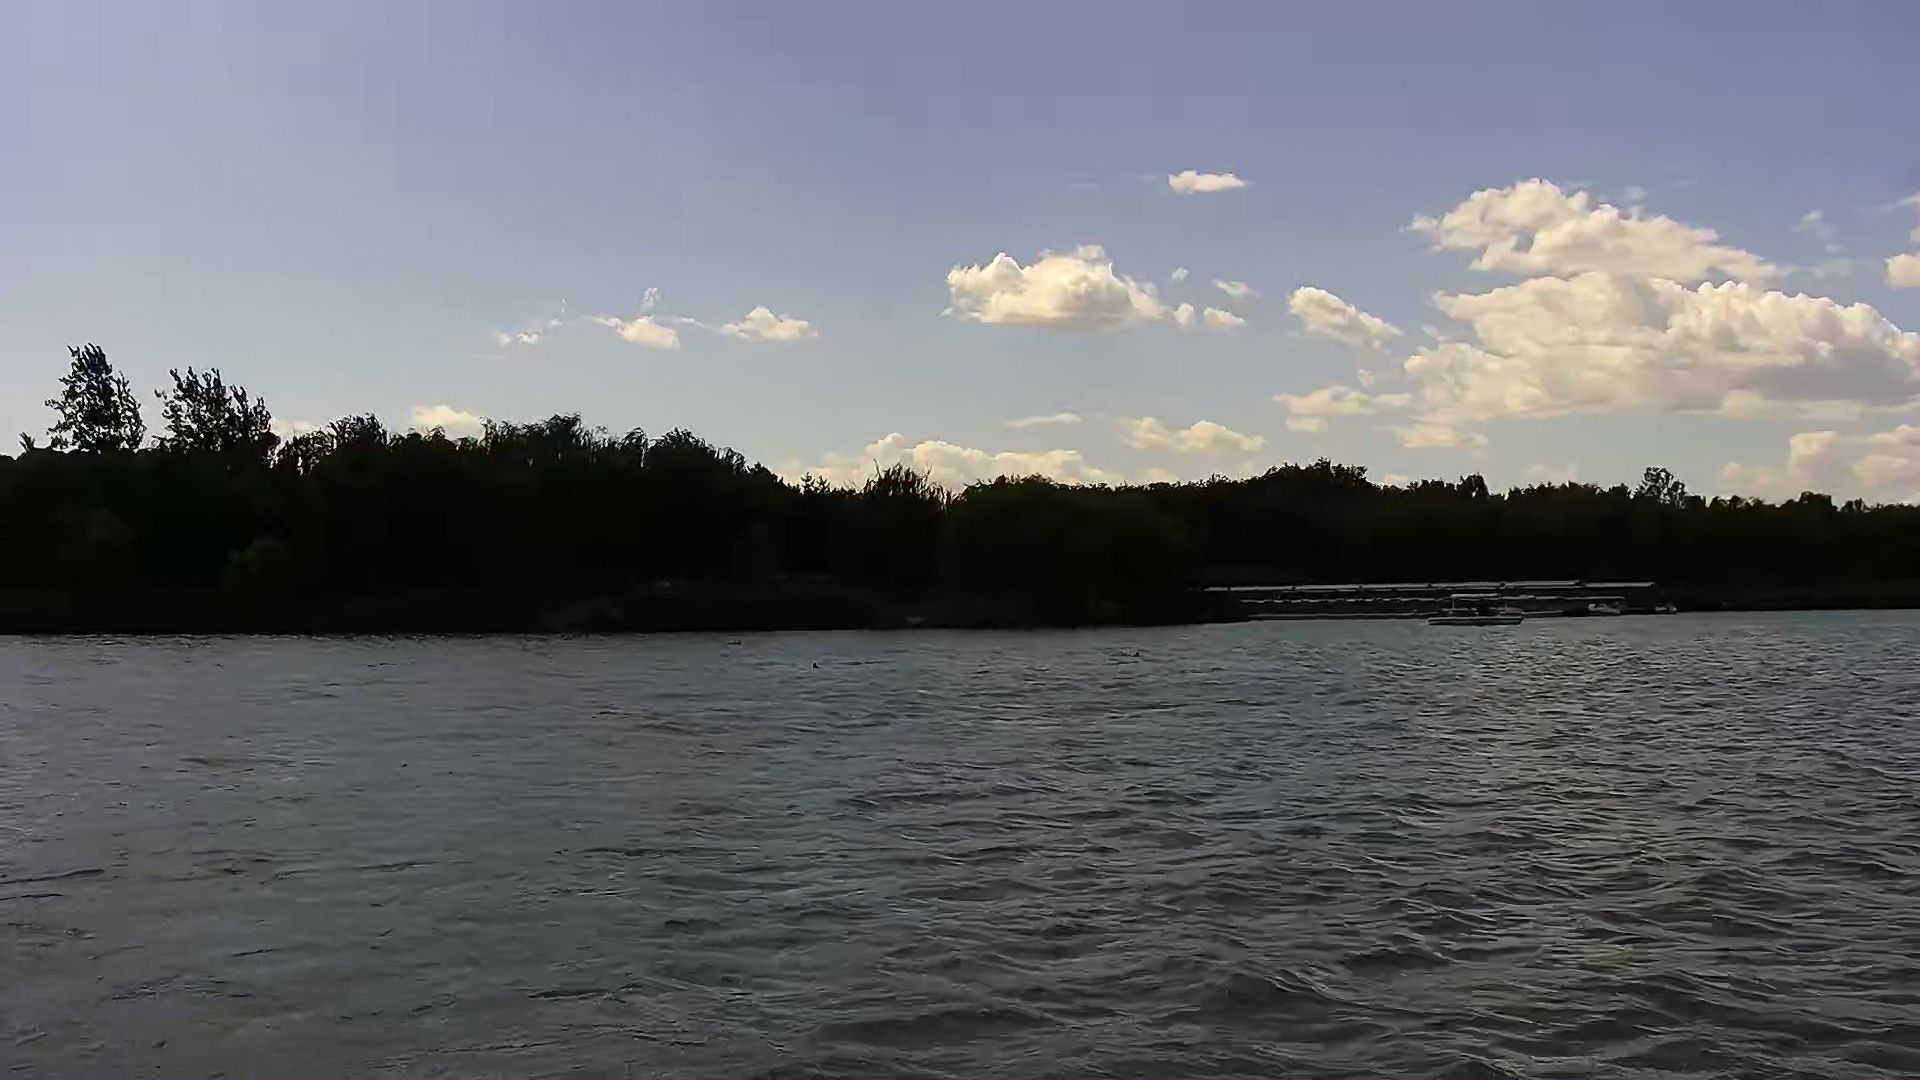boat: (1427, 592, 1538, 630)
harbor: (1197, 583, 1647, 620)
